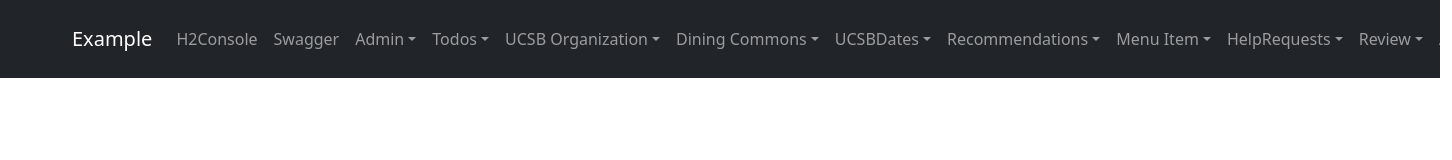
Test: AppNavbar tests › renders the helprequests menu correctly for an admin
The image size is (1452, 160).
Click the button "HelpRequests" at (1279, 39), box 1227,28 -> 1331,50
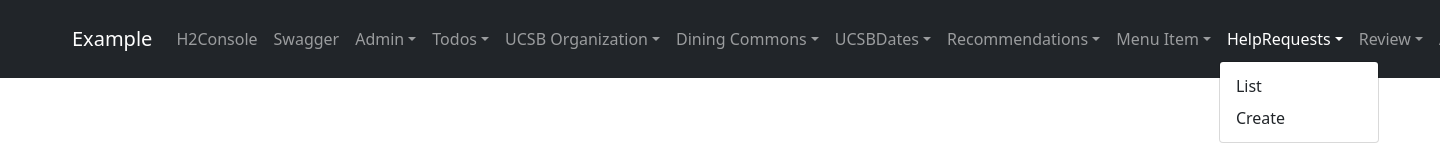
Now the link with test id "appnavbar-help-requests-create" is shown, box 1236,107 -> 1285,129
